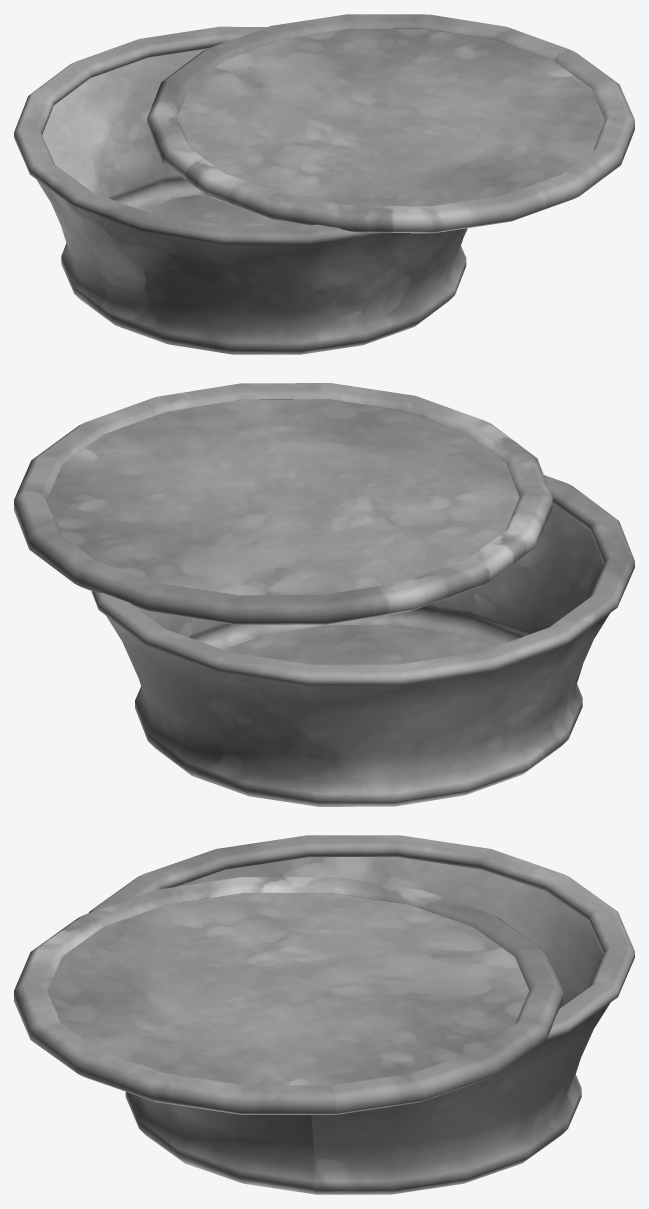
Rendered from SM_WickerBasket_03c.fbx.
3 views of the same model, one above another, from view 1: azimuth 30°, elevation 25°; view 2: azimuth 150°, elevation 25°; view 3: azimuth 270°, elevation 25° (orthographic). The views are drawn at different scales.
Parts seen in each view (by area): view 1: SM_WickerBasket_03c_LOD0; view 2: SM_WickerBasket_03c_LOD0; view 3: SM_WickerBasket_03c_LOD0.
Boxes of the visible parts, left/top/right/bottom form: SM_WickerBasket_03c_LOD0: left=14, top=14, right=634, bottom=354; SM_WickerBasket_03c_LOD0: left=14, top=383, right=634, bottom=806; SM_WickerBasket_03c_LOD0: left=14, top=835, right=634, bottom=1194.
Bounding box in the file's own units: 65.69 × 61.82 × 19.03.
